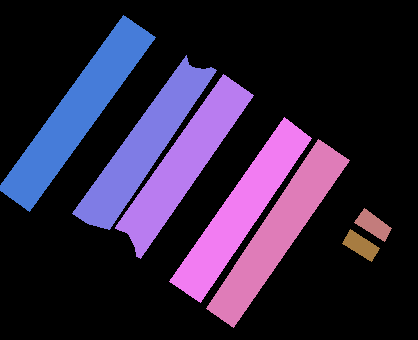parkingspot: (0, 15, 155, 211), (206, 139, 349, 327), (169, 117, 311, 302), (115, 74, 253, 258), (72, 55, 216, 229), (354, 208, 391, 241), (342, 229, 379, 261)
